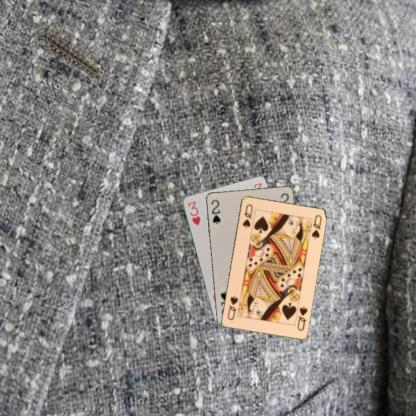2s: (208, 197, 222, 225)
3h: (185, 198, 202, 227)
Qs: (294, 303, 309, 332), (239, 201, 254, 229)
